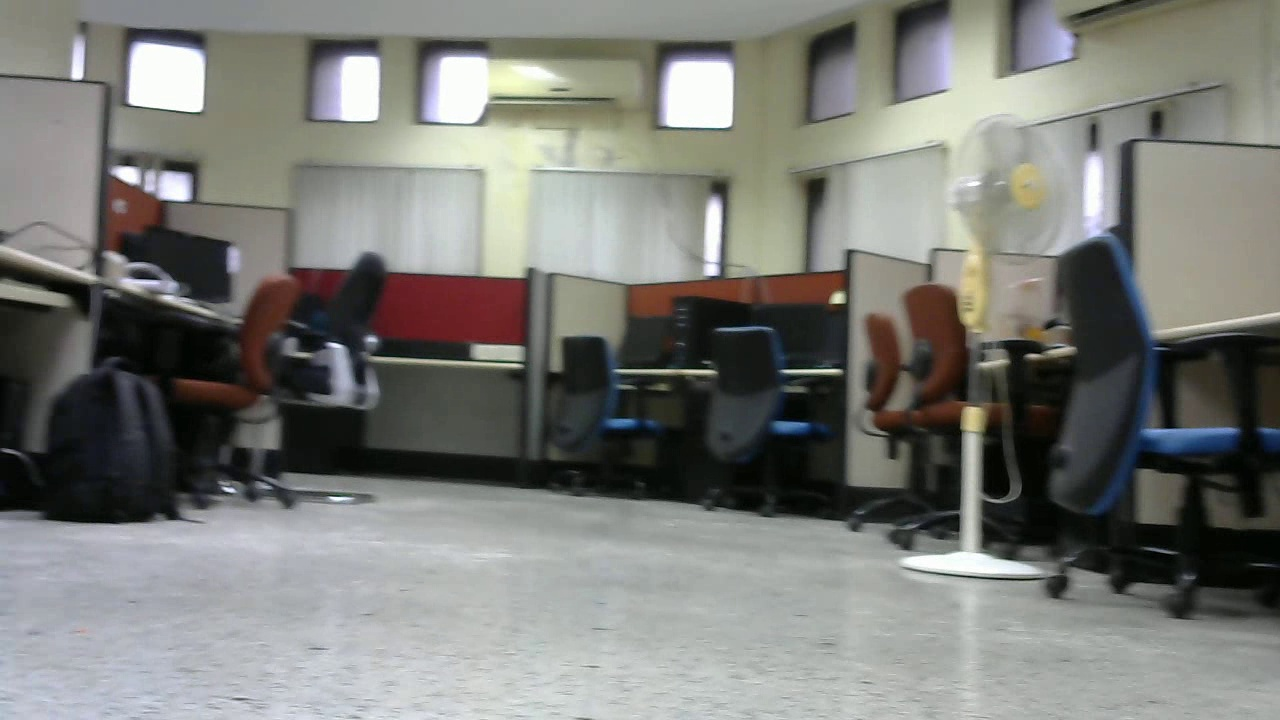chair: (1040, 225, 1280, 625), (857, 284, 1033, 545), (241, 249, 392, 498), (145, 276, 304, 506), (703, 329, 836, 520), (551, 336, 677, 506)
